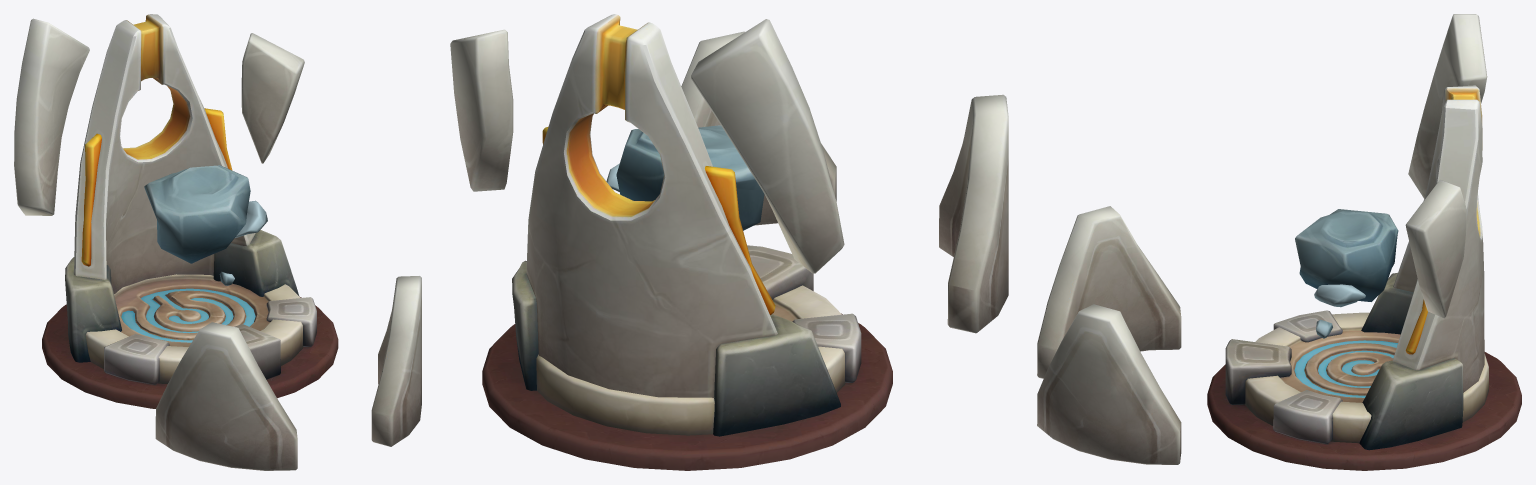
Rendered from DE_Altar_01.fbx.
3 renders of one model, left to right at view 1: azimuth 30°, elevation 25°; view 2: azimuth 150°, elevation 25°; view 3: azimuth 270°, elevation 25°, orthographic. The views are drawn at different scales.
Visible parts, largest first — view 1: DE_Altar_01; view 2: DE_Altar_01; view 3: DE_Altar_01.
Boxes of the visible parts, x1,y1,x2,y2 form: DE_Altar_01: [14, 14, 421, 470]; DE_Altar_01: [450, 14, 1008, 470]; DE_Altar_01: [1037, 14, 1521, 470].
Size of the model in its own units: 5.51 by 5.89 by 7.64.
